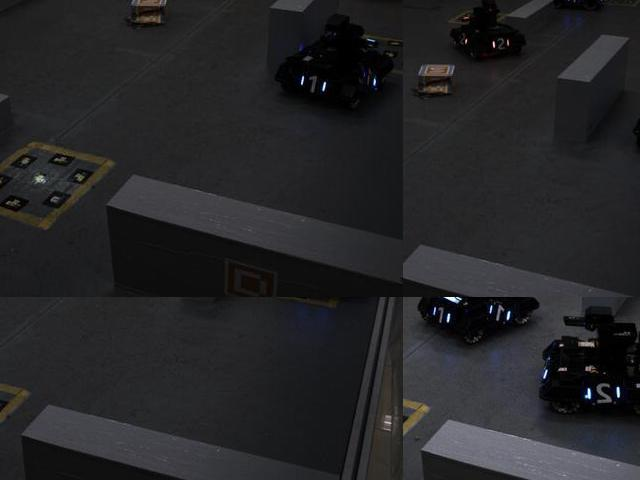armor: (582, 377, 627, 411), (294, 69, 331, 99), (487, 302, 516, 328), (360, 64, 384, 92), (429, 303, 453, 329), (488, 35, 513, 55), (564, 0, 585, 7)
